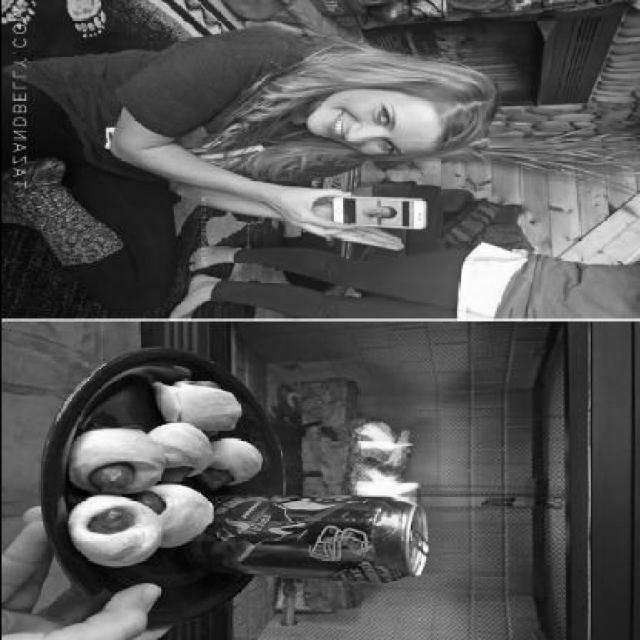fake: (330, 196, 426, 232)
